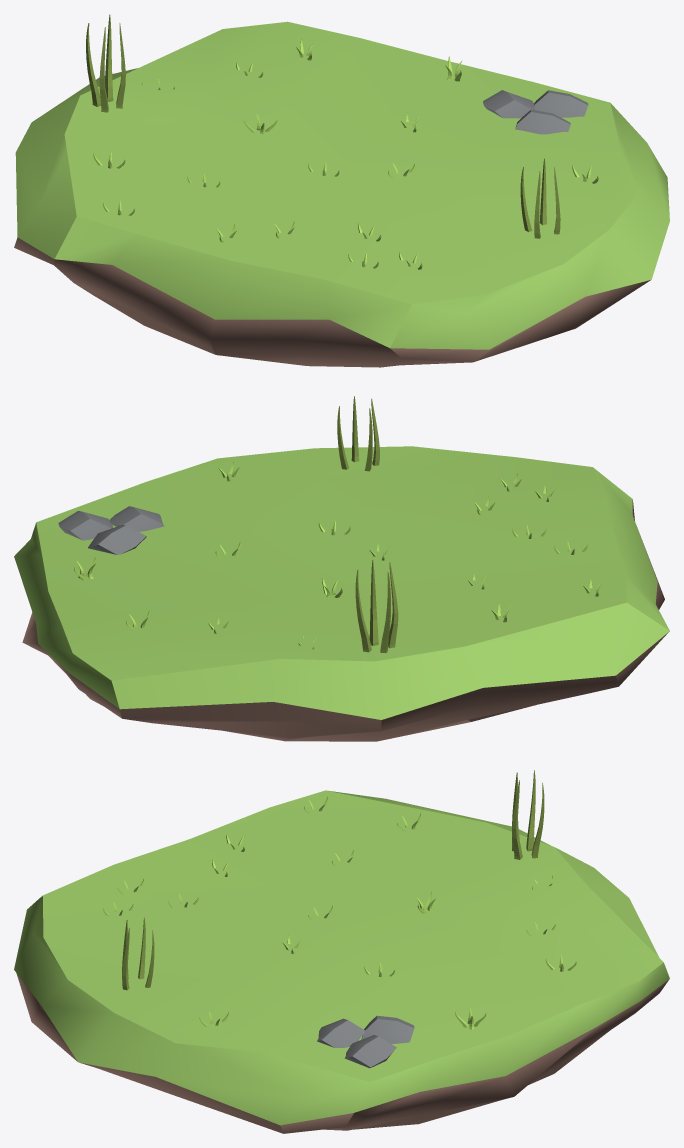
The model's file is small_1_spring.fbx.
3 views of the same model, one above another, from view 1: azimuth 30°, elevation 25°; view 2: azimuth 150°, elevation 25°; view 3: azimuth 270°, elevation 25° (orthographic). The views are drawn at different scales.
Parts seen in each view (by area): view 1: Island_Spring_1.001; view 2: Island_Spring_1.001; view 3: Island_Spring_1.001.
Part boxes in pixels (x1,y1,x2,y2): Island_Spring_1.001: (14, 14, 669, 367); Island_Spring_1.001: (14, 396, 669, 741); Island_Spring_1.001: (14, 770, 669, 1133).
Bounding box in the file's own units: 2.39 × 0.8548 × 2.4.
